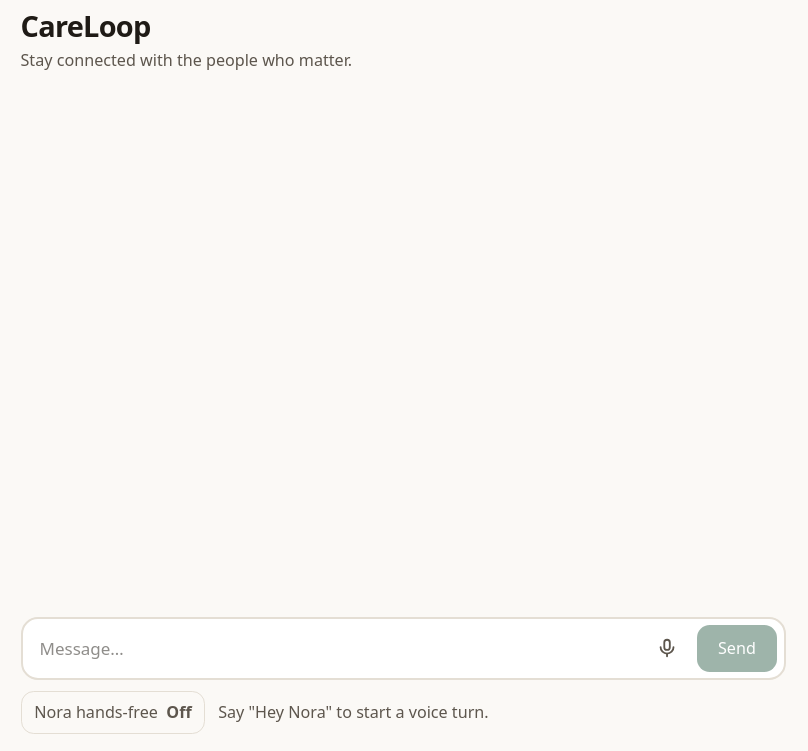
Test case: 14. the voice-origin indicator › appears for a PRESSED recording too — origin, not wake word
Expected: the switch labelled "Nora hands-free Off" is shown, [20,691,205,734]
Click the button named "start voice input": x=667, y=648 [644,625,690,672]
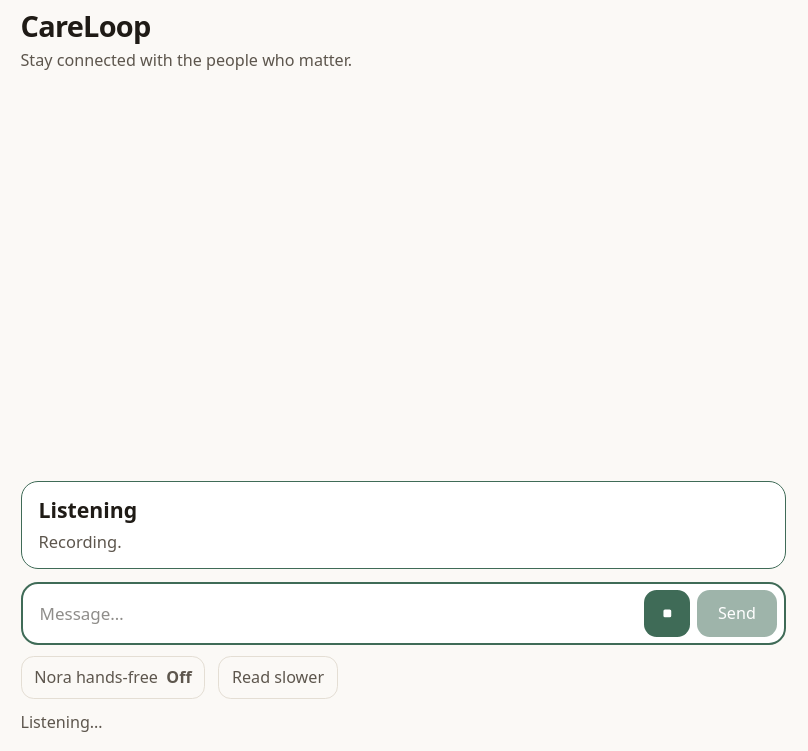
Click the button named "stop recording": x=667, y=614 [644,590,690,637]
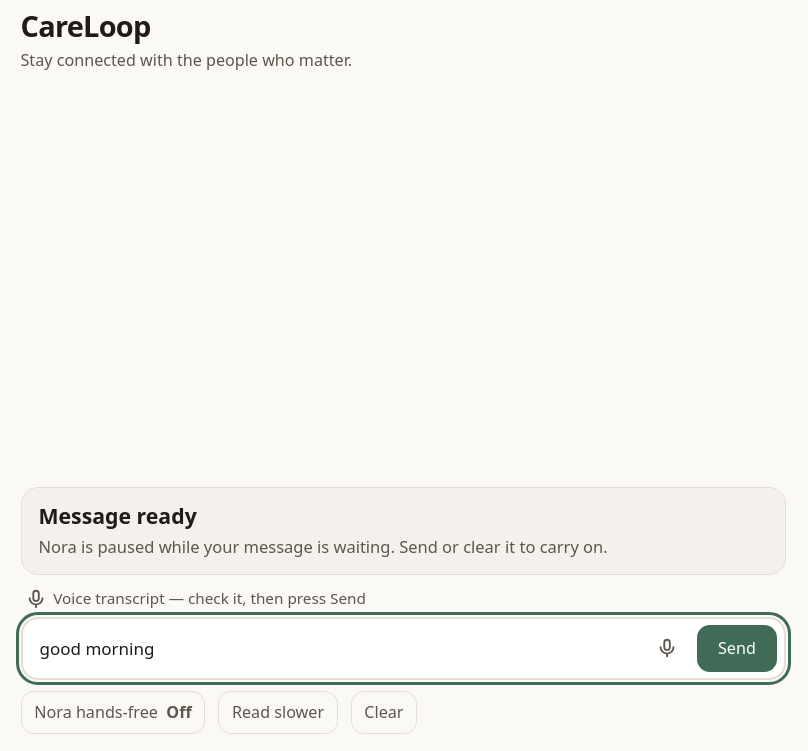
Expected: the text box named "write a message" holds "good morning", [29,625,637,672]
Expected: the text "Voice transcript — check it, then press Send" is shown, [25,588,366,610]
